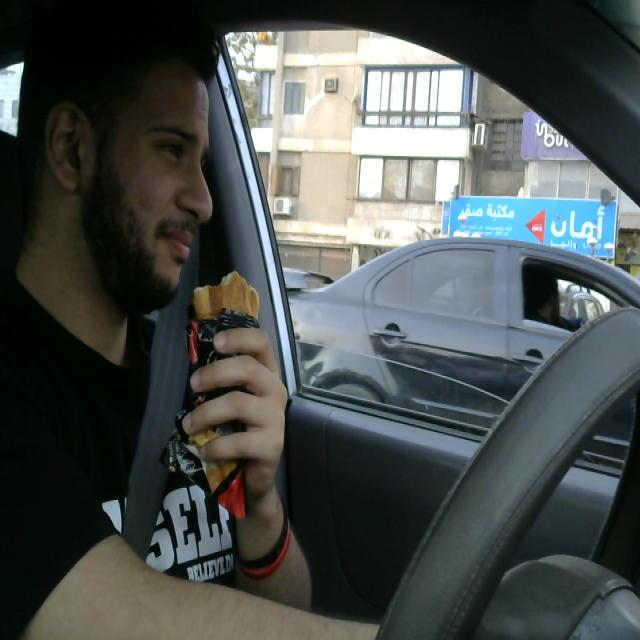eating: (171, 266, 274, 534)
